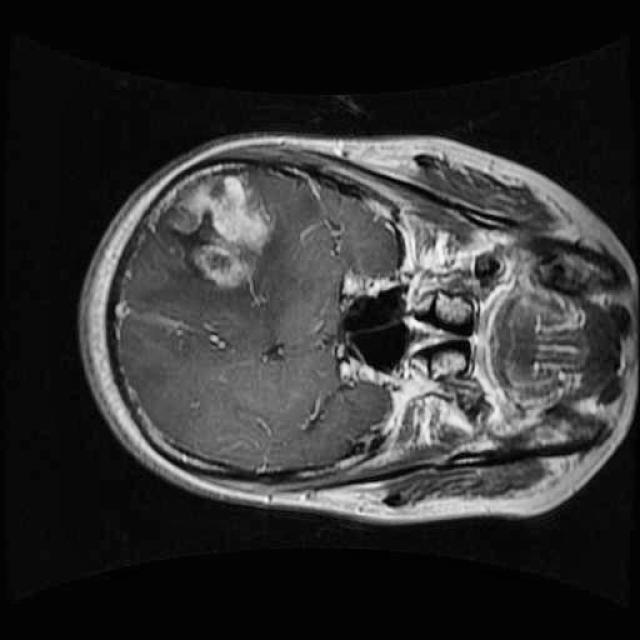Tumor: (144, 143, 330, 308)
